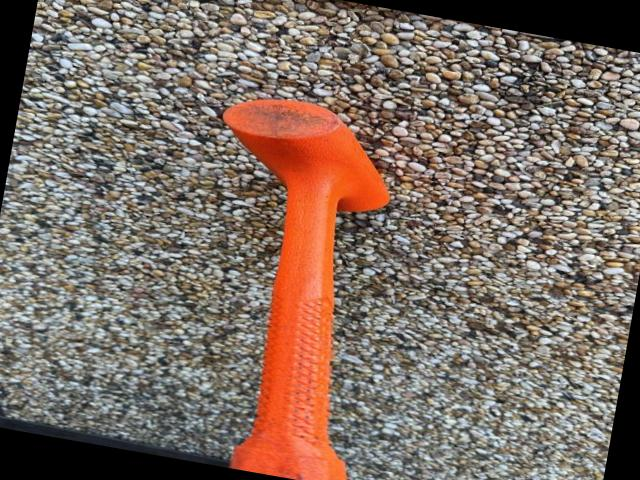hammer: (159, 88, 418, 480)
